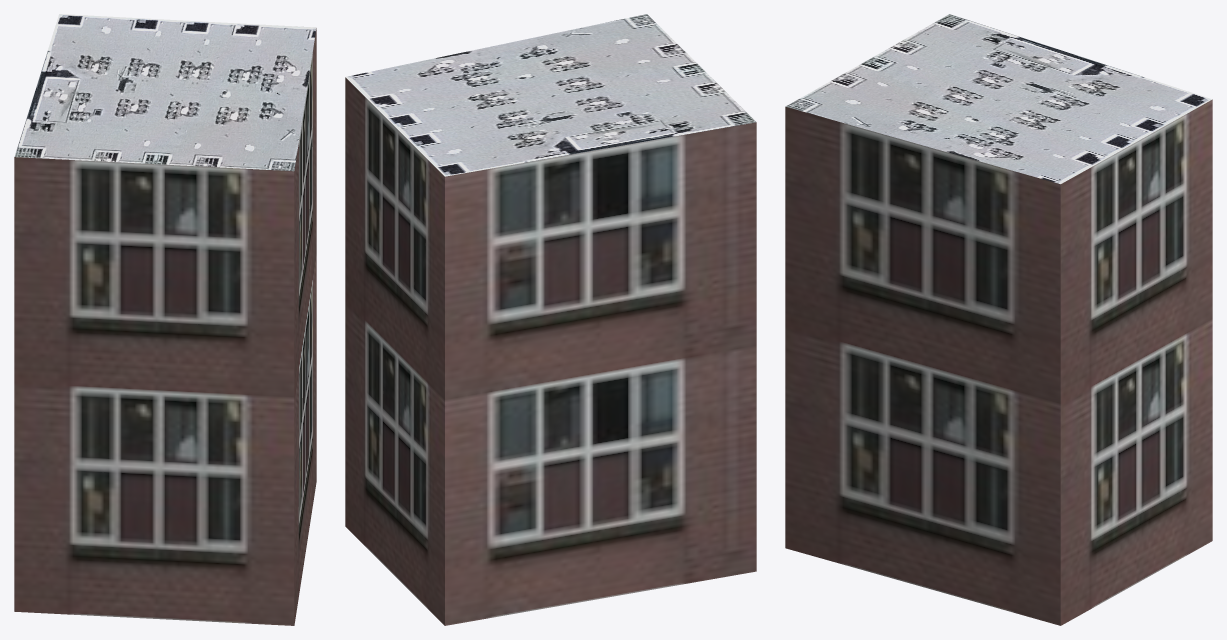
Rendered from ResTex__2169.fbx.
3 renders of one model, left to right at view 1: azimuth 30°, elevation 25°; view 2: azimuth 150°, elevation 25°; view 3: azimuth 270°, elevation 25°, orthographic. The views are drawn at different scales.
Parts seen in each view (by area): view 1: CityEngineMaterial_12_m, CityEngineMaterial_m; view 2: CityEngineMaterial_12_m, CityEngineMaterial_m; view 3: CityEngineMaterial_12_m, CityEngineMaterial_m.
Part boxes in pixels (x1,y1,x2,y2): CityEngineMaterial_12_m: [14, 28, 316, 625]; CityEngineMaterial_m: [14, 14, 316, 171]; CityEngineMaterial_12_m: [345, 77, 756, 625]; CityEngineMaterial_m: [345, 14, 756, 176]; CityEngineMaterial_12_m: [785, 99, 1212, 625]; CityEngineMaterial_m: [786, 14, 1211, 184].
Size of the model in its own units: 4.96 by 6 by 5.26.
Materials: 2 (2 with a texture image).
